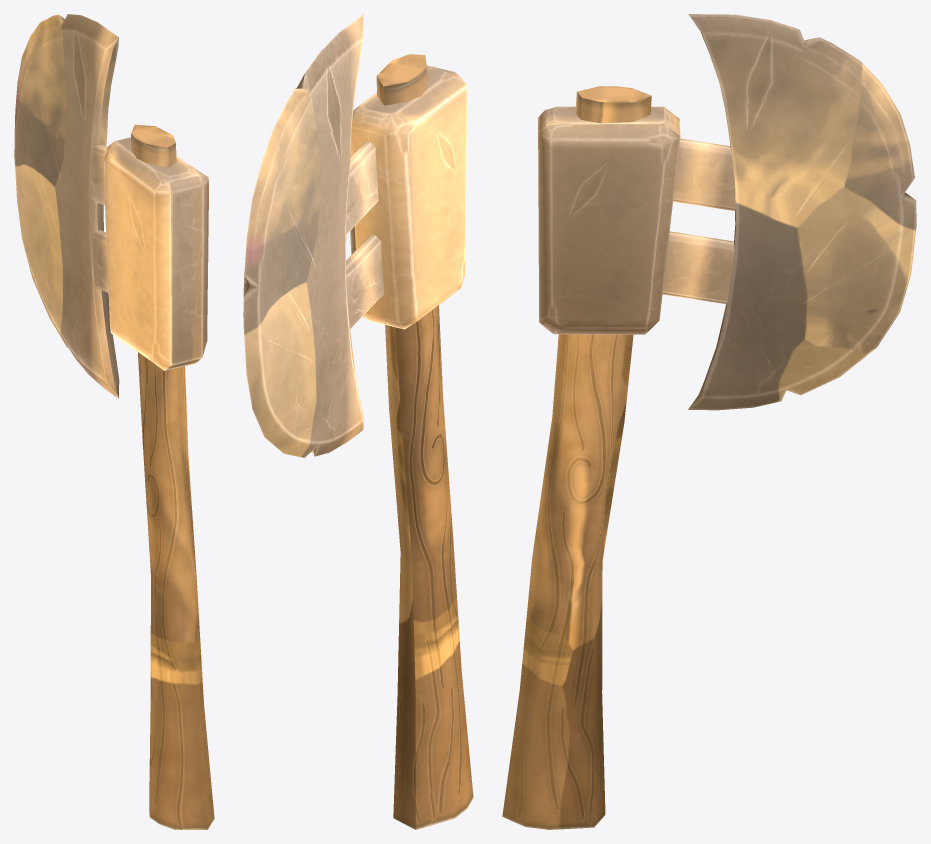
File: SM_Stylized_Axe.fbx
3 views of the same model, side by side, from view 1: azimuth 30°, elevation 25°; view 2: azimuth 150°, elevation 25°; view 3: azimuth 270°, elevation 25° (orthographic). The views are drawn at different scales.
Visible parts, largest first — view 1: SM_Stylized_Axe_LOD0; view 2: SM_Stylized_Axe_LOD0; view 3: SM_Stylized_Axe_LOD0.
Boxes of the visible parts, <box> form: SM_Stylized_Axe_LOD0: <box>14,14,214,829</box>; SM_Stylized_Axe_LOD0: <box>243,14,473,829</box>; SM_Stylized_Axe_LOD0: <box>502,14,916,829</box>.
Size of the model in its own units: 6.99 by 41.6 by 89.18.
